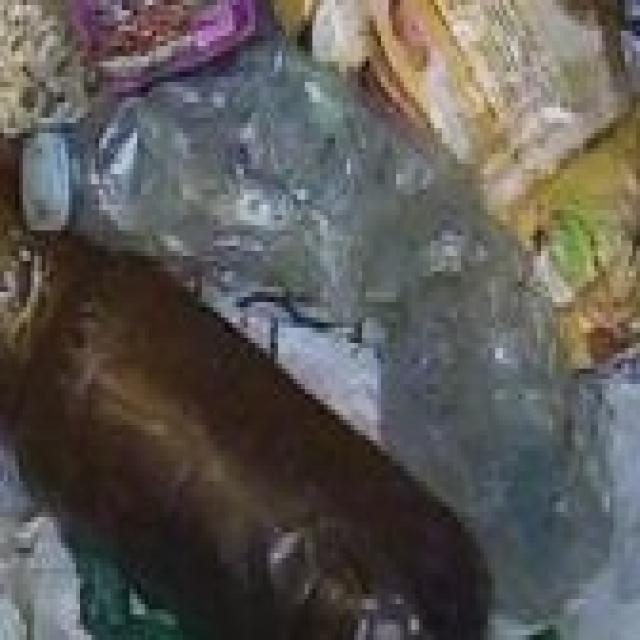litter: (18, 18, 633, 638), (0, 208, 499, 640)
